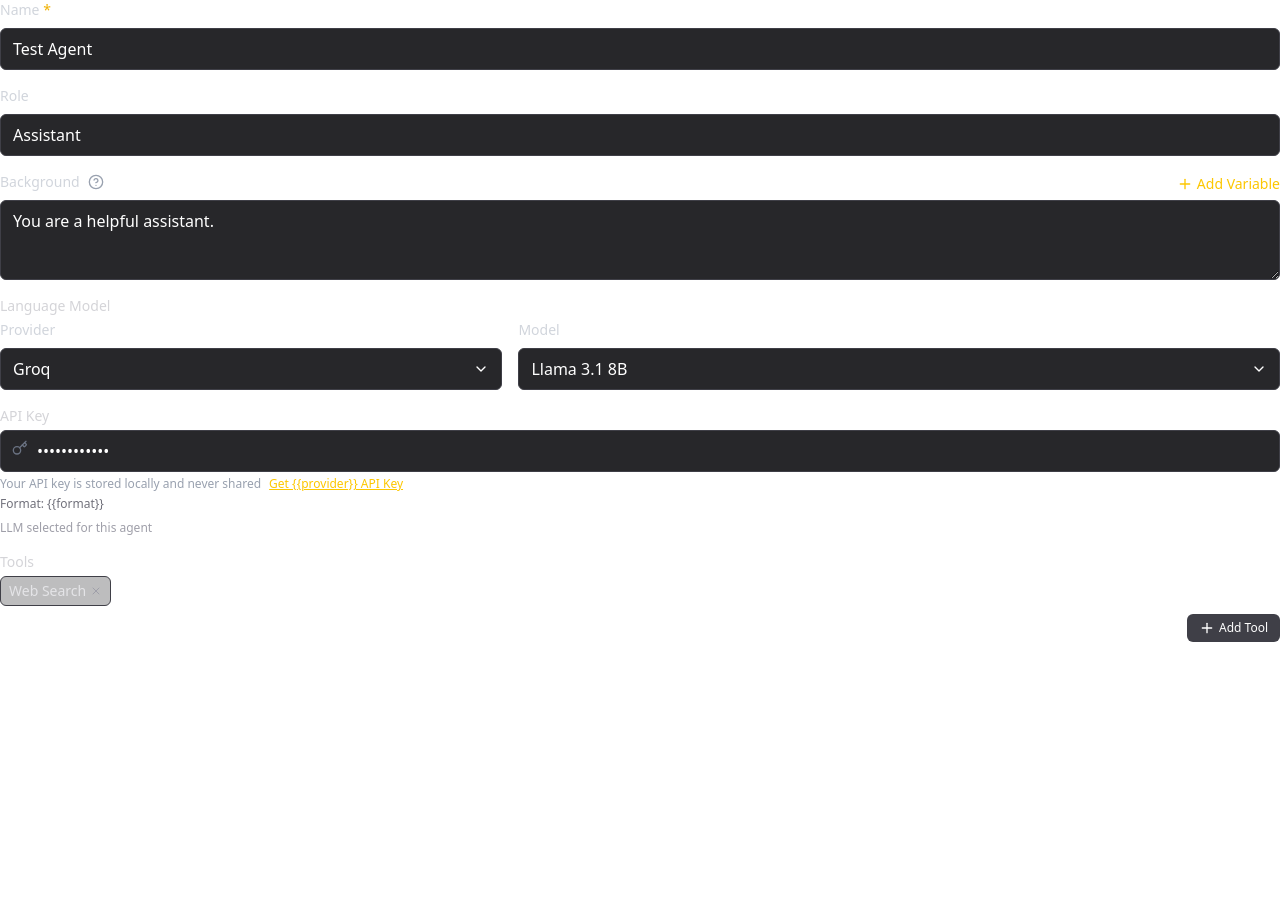
Scenario: AgentForm Component › Variables Feature (when enabled) › should open variable popup when add variable button is clicked
Click the button titled "Add variable". click: (1228, 184)
box: [1177,174,1279,194]
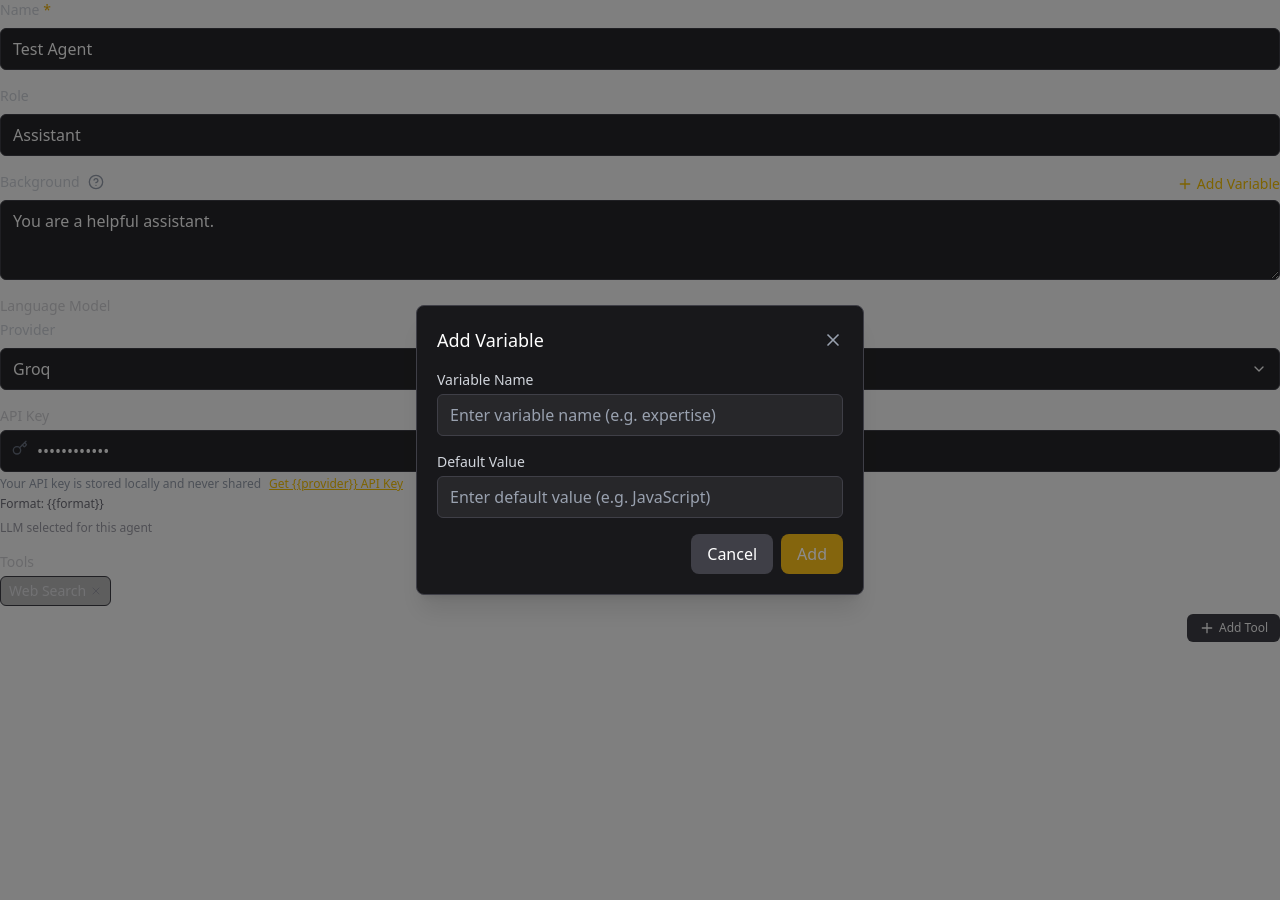
Now the text "Variable Name" is shown, box [437,370,534,389]
